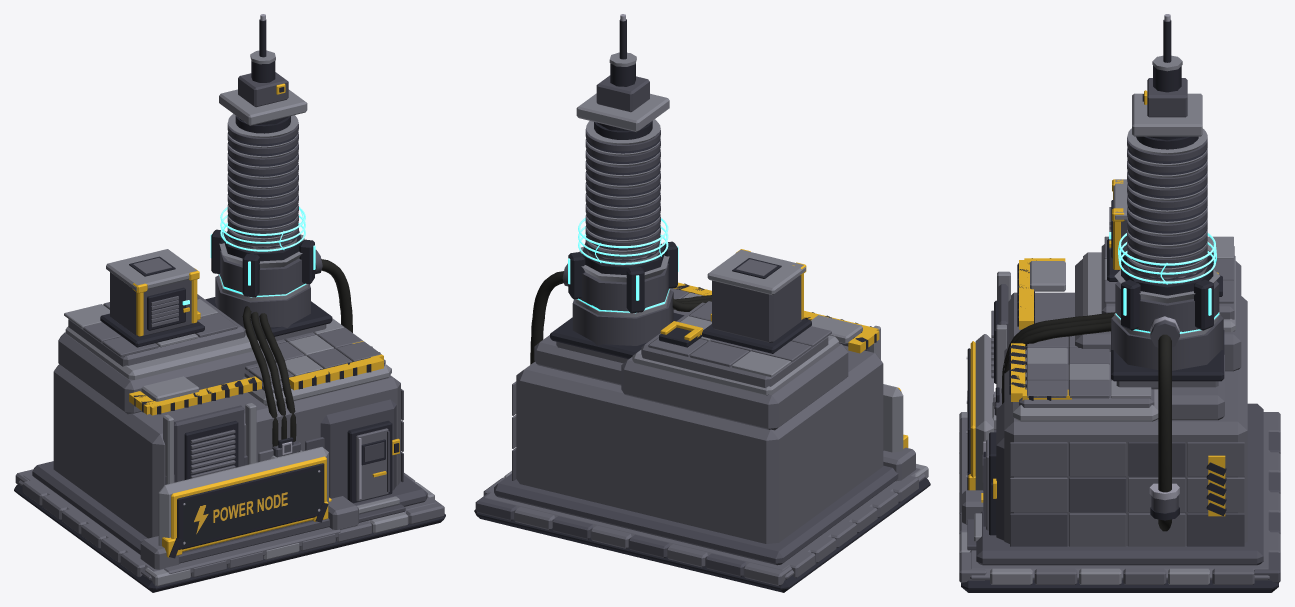
Rendered from power_node.glb.
3 renders of one model, left to right at view 1: azimuth 30°, elevation 25°; view 2: azimuth 150°, elevation 25°; view 3: azimuth 270°, elevation 25°, orthographic. The views are drawn at different scales.
Parts seen in each view (by area): view 1: Foundation_Dark_steel, Signage_POWER_NODE_lettering, Building_Cyan_emissive; view 2: Foundation_Dark_steel, Building_Cyan_emissive; view 3: Foundation_Dark_steel, Building_Cyan_emissive.
Boxes of the visible parts, box(x1,y1,x2,y2) form: Foundation_Dark_steel: box(14, 14, 445, 592); Signage_POWER_NODE_lettering: box(183, 469, 319, 545); Building_Cyan_emissive: box(182, 206, 315, 305); Foundation_Dark_steel: box(474, 14, 930, 592); Building_Cyan_emissive: box(568, 217, 678, 313); Foundation_Dark_steel: box(959, 14, 1280, 592); Building_Cyan_emissive: box(1109, 232, 1219, 333).
Bounding box in the file's own units: 6.34 × 9.45 × 5.21.
Materials: 3 (3 with a texture image).
